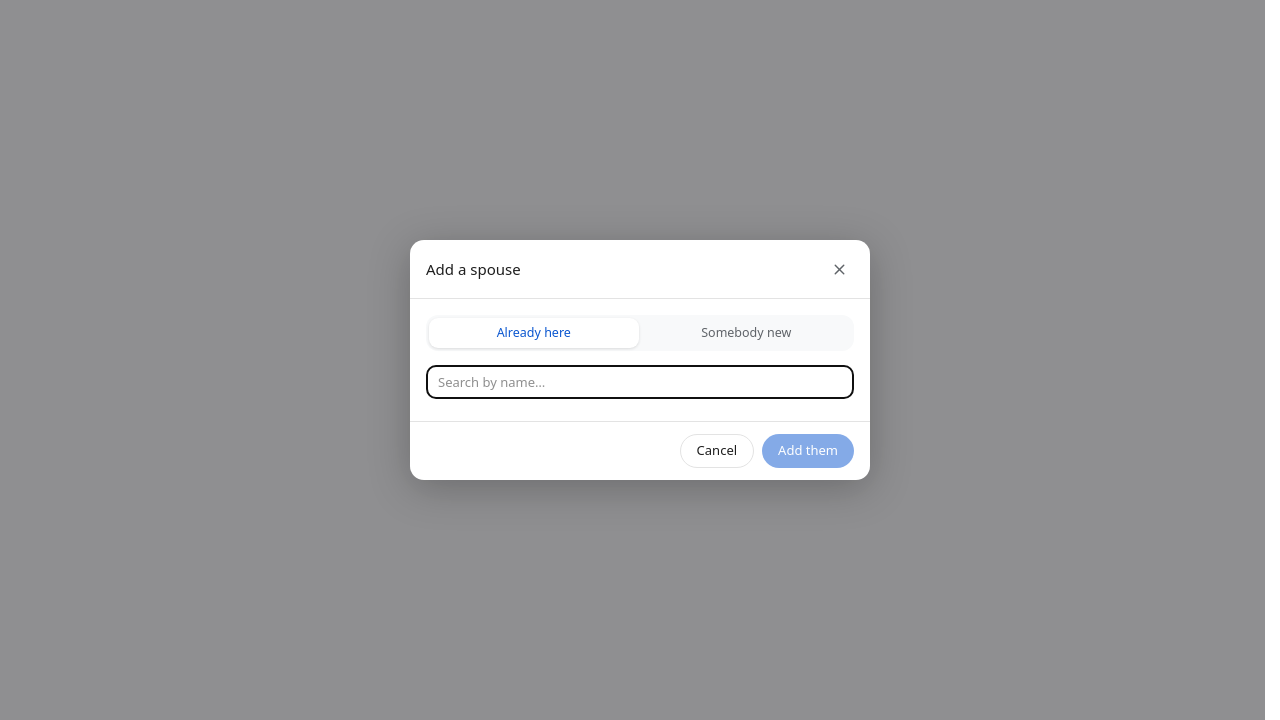
Test: AddRelativeModal › search result rendering › shows known_as + name + birth_year, highlights when selected
Type "Stephen" into the field with placeholder "Search by name…" at (640, 382), box top-left (426, 365), bottom-right (854, 399)
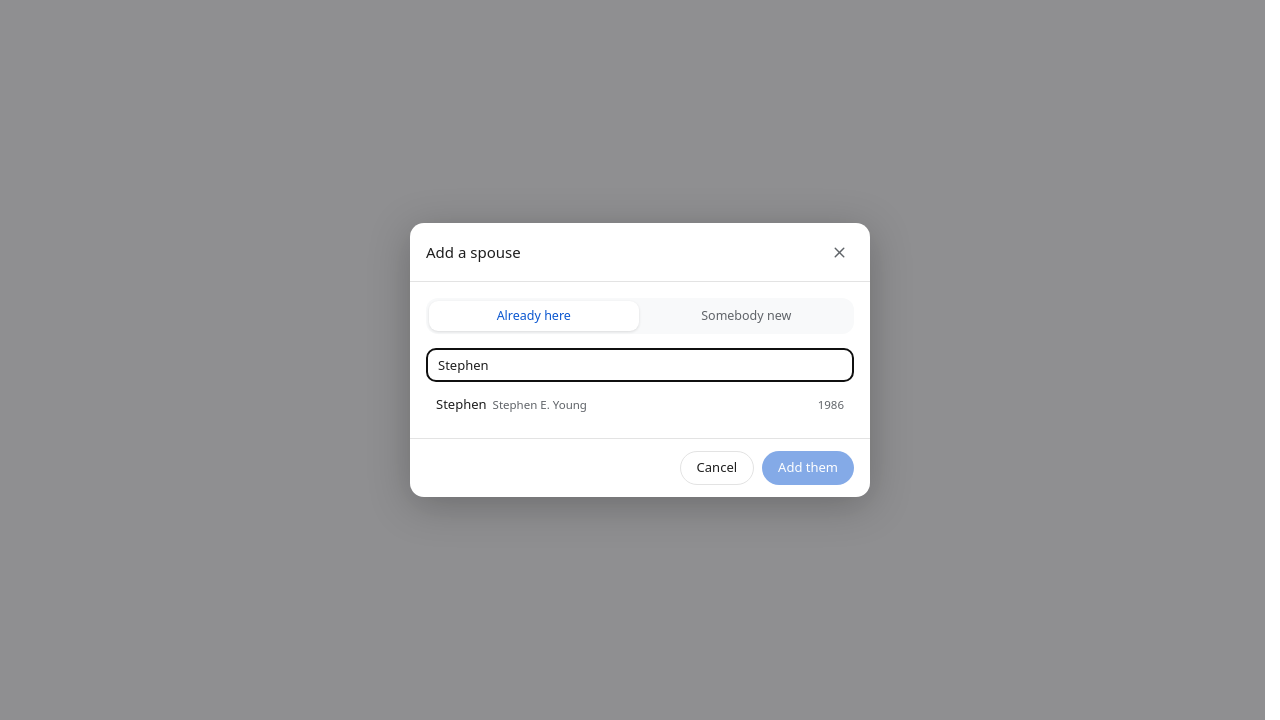
Now the text "Stephen E. Young" is shown
Now the text "1986" is shown, box top-left (818, 396), bottom-right (844, 414)
Click to select → highlight branch (line 138) fires.
Click the text "Stephen E. Young" at (540, 405), box top-left (493, 397), bottom-right (587, 412)
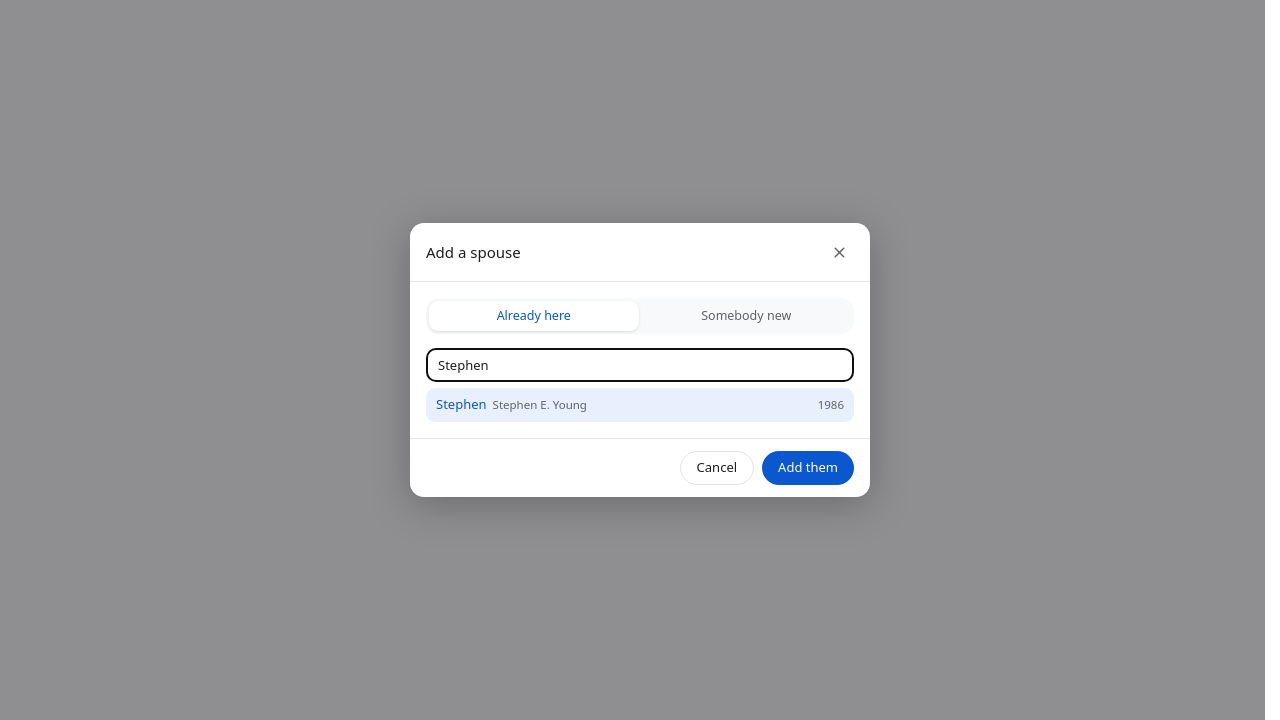
Now the button "Add them" is enabled, box top-left (762, 451), bottom-right (854, 485)
